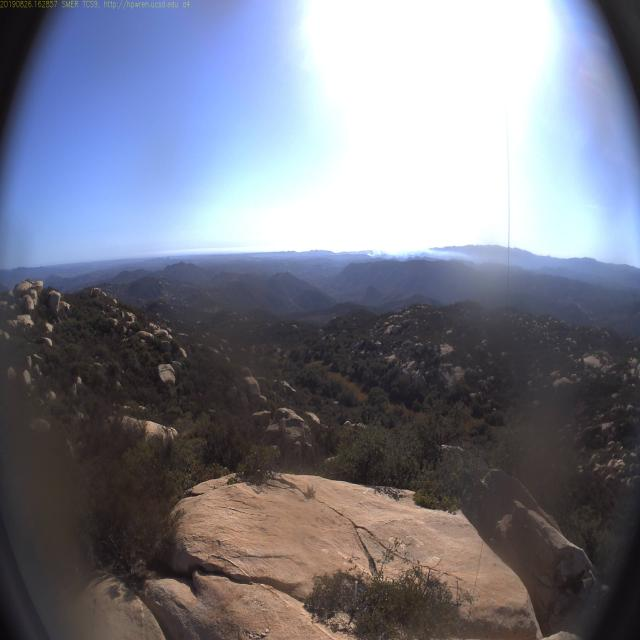smoke: (365, 246, 380, 258)
